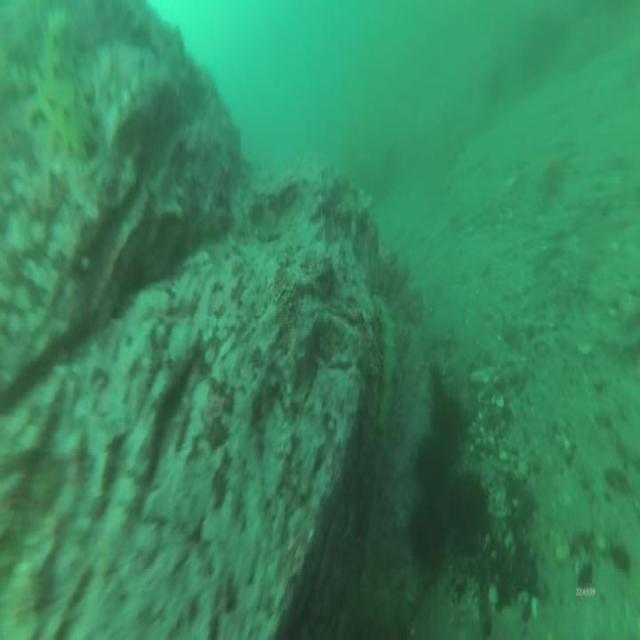echinus: (442, 469, 489, 556), (407, 493, 448, 577), (411, 430, 456, 504), (426, 387, 468, 455)
holothurian: (28, 1, 102, 168), (368, 289, 400, 438)
